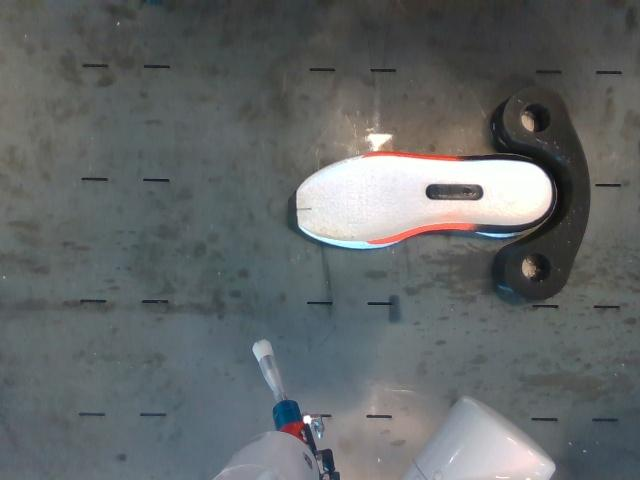shoes: (288, 157, 553, 241)
